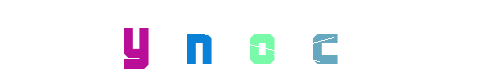C: (249, 0, 329, 80)
N: (158, 0, 238, 80)
O: (212, 0, 292, 80)
Y: (96, 0, 176, 80)
